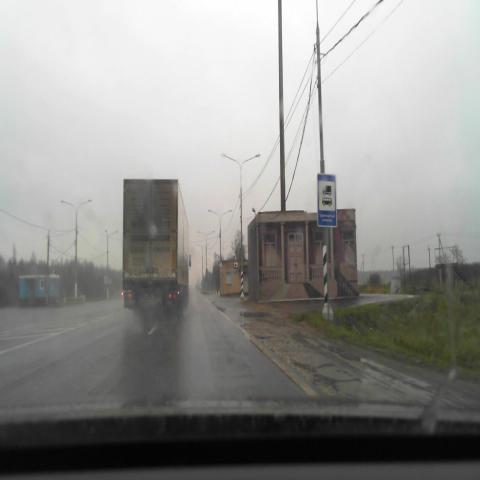7_14: (316, 172, 336, 227)
